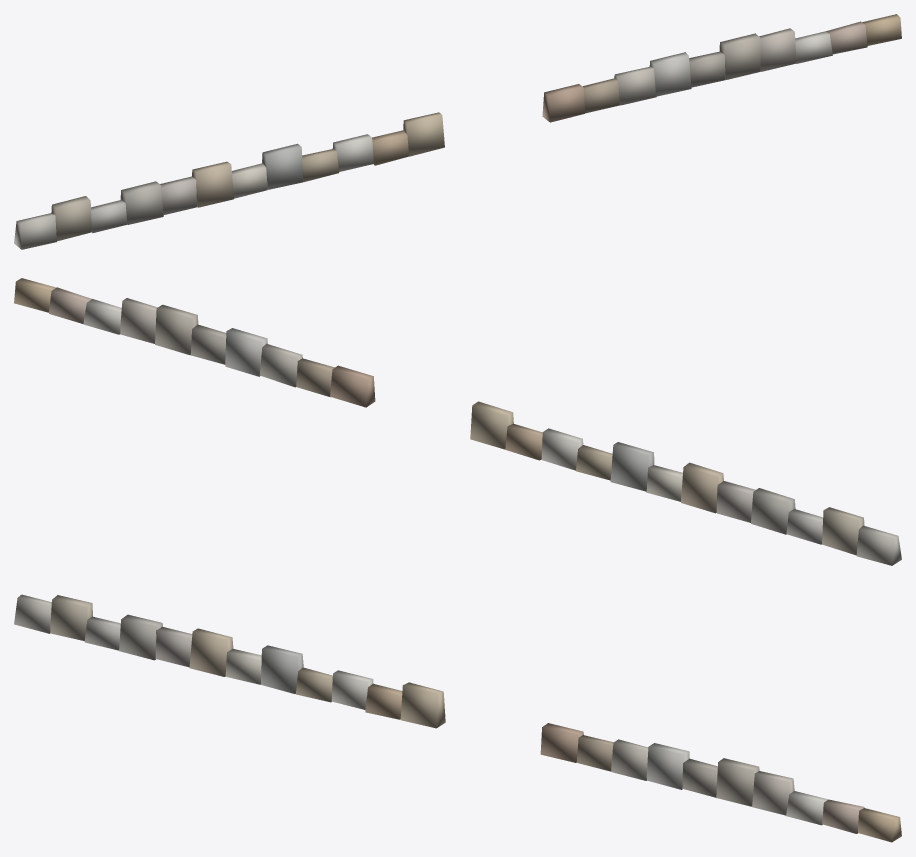
Rendered from farm_14_20_far.glb.
The picture shows the model from 3 angles, top to bottom: view 1: azimuth 30°, elevation 25°; view 2: azimuth 150°, elevation 25°; view 3: azimuth 330°, elevation 25°; orthographic projection. The views are drawn at different scales.
Parts seen in each view (by area): view 1: geometry_0; view 2: geometry_0; view 3: geometry_0.
Part boxes in pixels (x1,y1,x2,y2): geometry_0: (14, 14, 901, 249); geometry_0: (14, 278, 901, 565); geometry_0: (14, 594, 901, 842).
Bounding box in the file's own units: 39.47 × 2.27 × 2.68.
